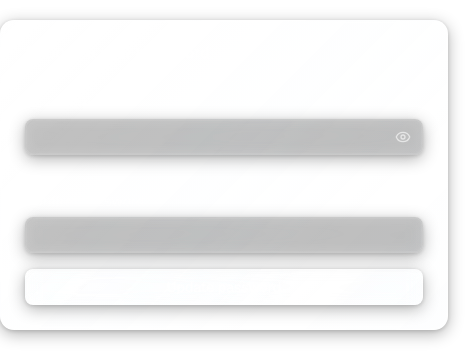
Scenario: ResetPasswordPage › submits the token with the new password and shows success
The width and height of the screenshot is (473, 359).
In the password field labelled "New password": {"x": 224, "y": 137} x1=25 y1=119 x2=423 y2=155, type "NewPassword1"
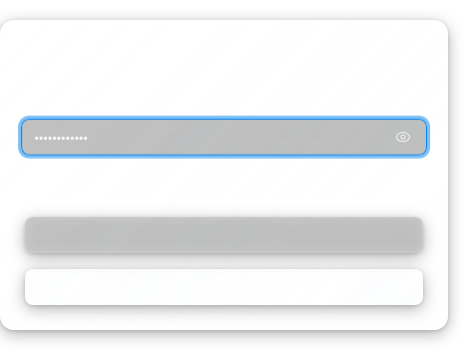
In the password field labelled "Confirm password": {"x": 224, "y": 235} x1=25 y1=217 x2=423 y2=253, type "NewPassword1"
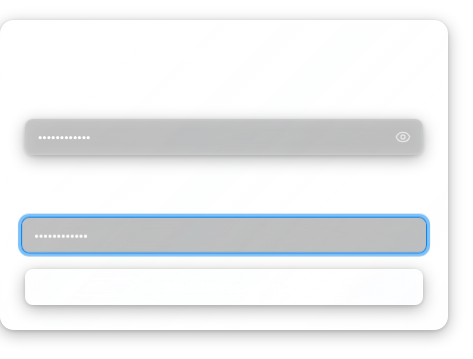
Click the button "Update password": {"x": 224, "y": 287} x1=25 y1=269 x2=423 y2=305
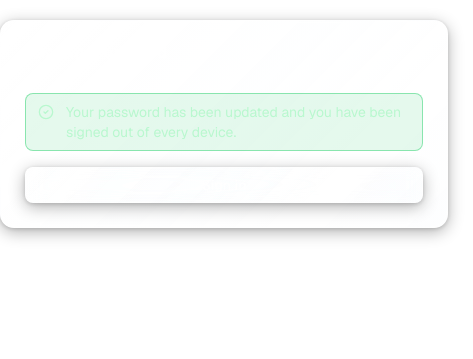
Check: the text "signed out of every device" is shown, box x1=66 y1=103 x2=401 y2=141
